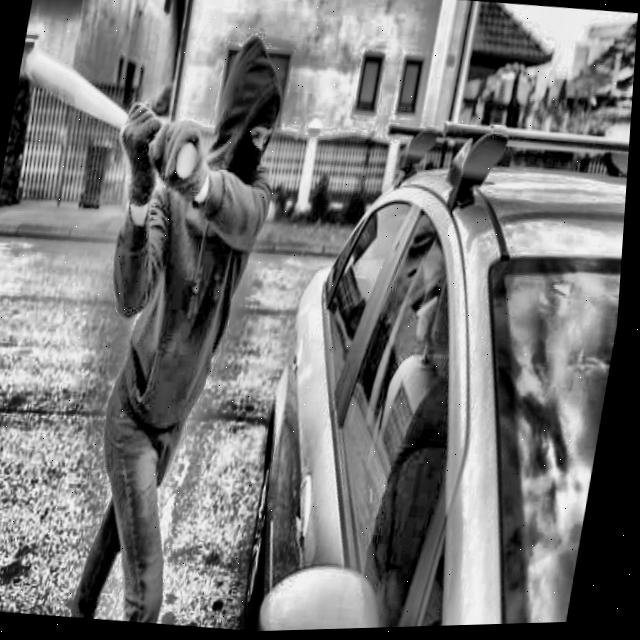robbery: (19, 34, 629, 629)
